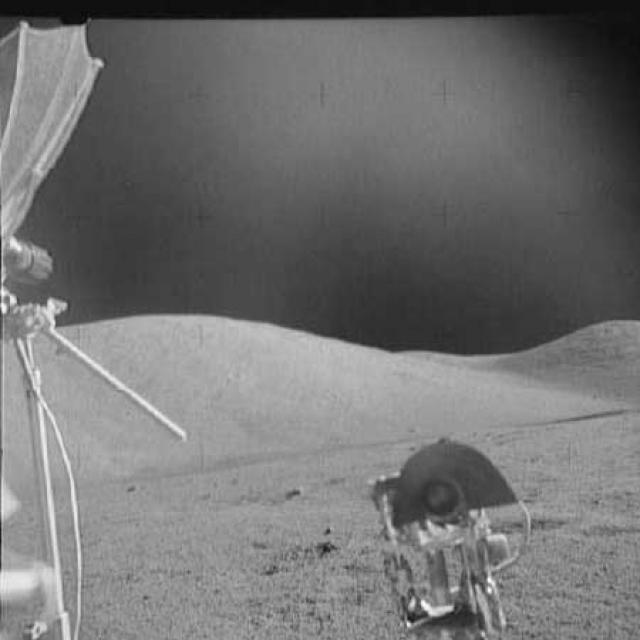artifact: (0, 14, 197, 446), (360, 432, 538, 638), (3, 448, 93, 637)
crater: (490, 513, 566, 539)
